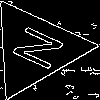N: (10, 23, 75, 77)
